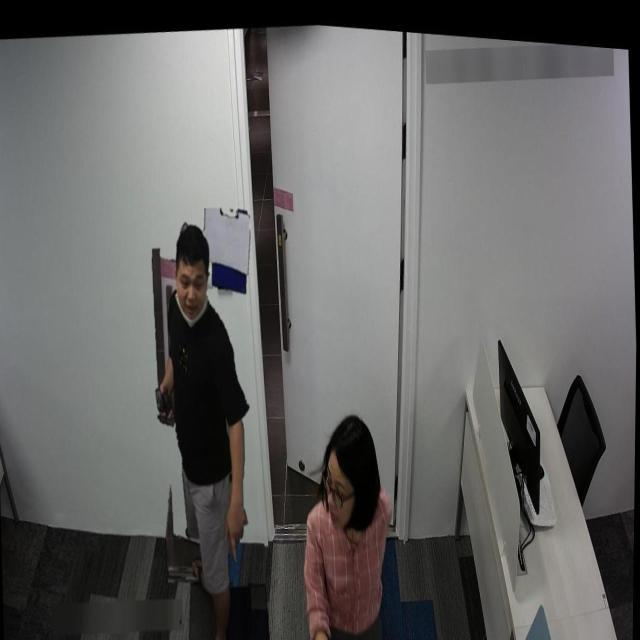hairnet: (173, 288, 209, 326)
no_hairnet: (320, 491, 356, 532)
